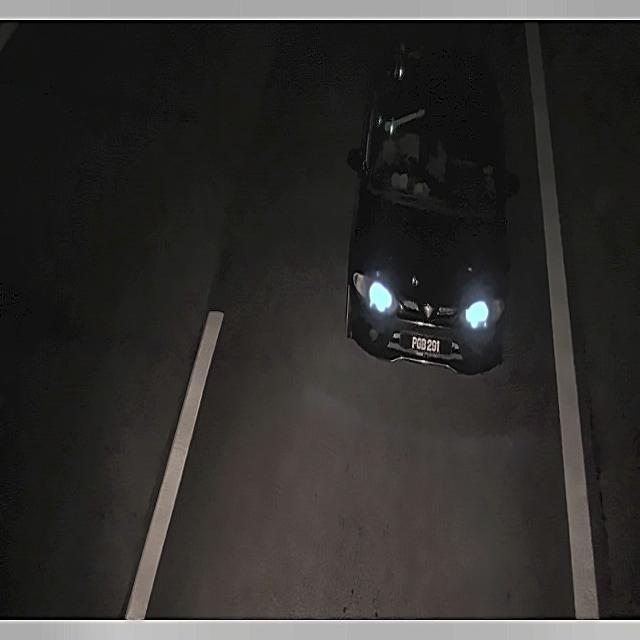car: (408, 333, 444, 365)
